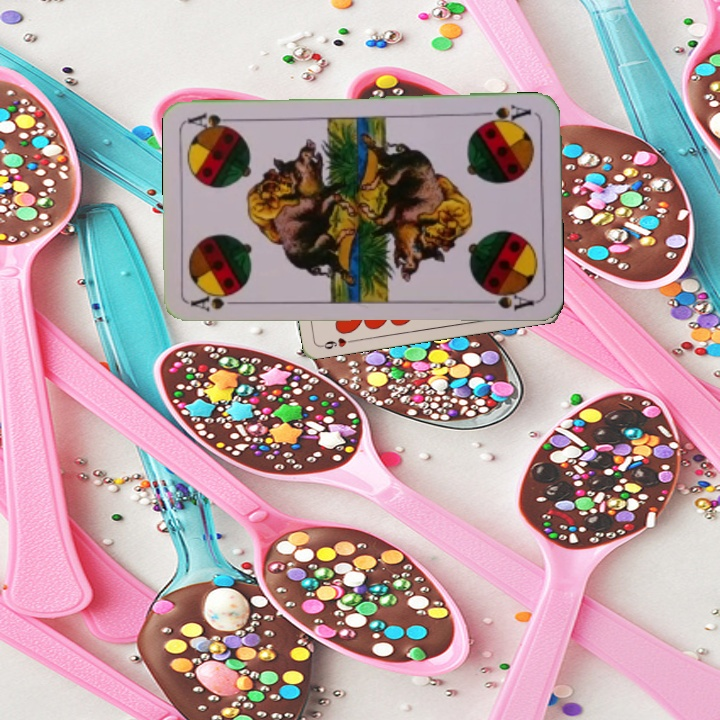H9: (317, 334, 358, 352)
SA: (188, 286, 247, 313), (477, 100, 533, 126)
